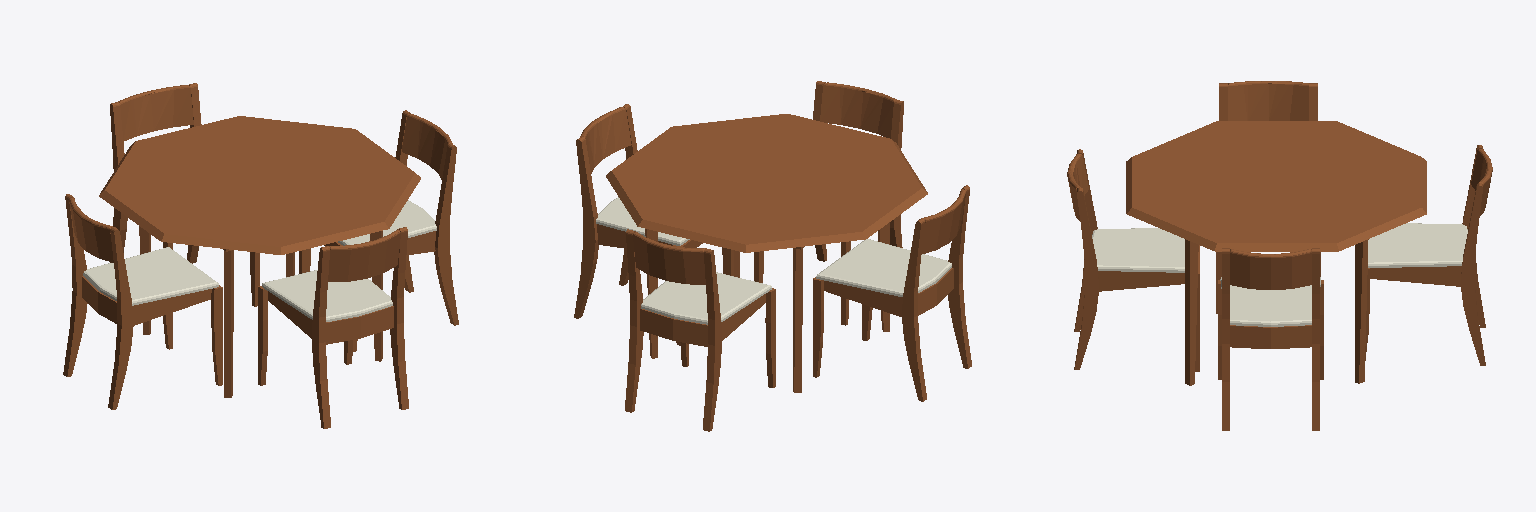
File: DiningSet4.obj
3 views of the same model, side by side, from view 1: azimuth 30°, elevation 25°; view 2: azimuth 150°, elevation 25°; view 3: azimuth 270°, elevation 25° (orthographic).
Size of the model in its own units: 66.44 by 31.6 by 67.9.